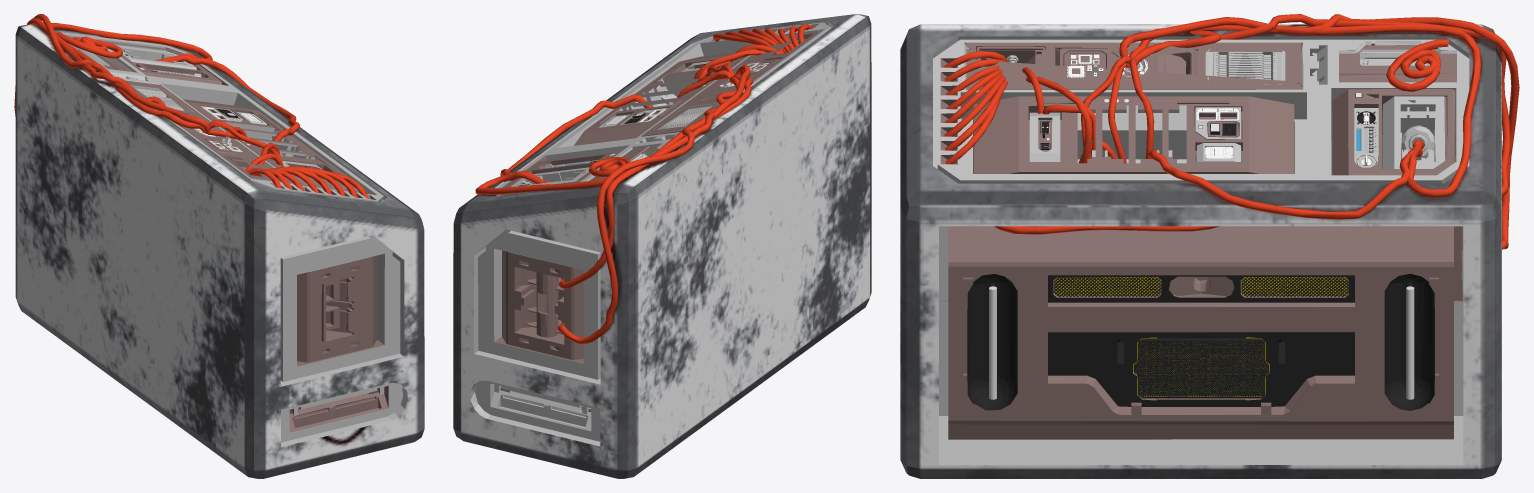
The model's file is Console-Large.fbx.
The picture shows the model from 3 angles, left to right: view 1: azimuth 30°, elevation 25°; view 2: azimuth 150°, elevation 25°; view 3: azimuth 270°, elevation 25°; orthographic projection. The views are drawn at different scales.
Visible parts, largest first — view 1: Console-Large, cable; view 2: Console-Large, cable; view 3: Console-Large, cable, Console-Large.2339, Console-Large.2338.
Part boxes in pixels (left/top/right/bottom): Console-Large: left=15, top=24, right=424, bottom=478; cable: left=14, top=14, right=368, bottom=198; Console-Large: left=453, top=14, right=871, bottom=478; cable: left=475, top=24, right=813, bottom=343; Console-Large: left=900, top=24, right=1501, bottom=478; cable: left=943, top=14, right=1519, bottom=249; Console-Large.2339: left=1054, top=277, right=1348, bottom=396; Console-Large.2338: left=1134, top=338, right=1268, bottom=398.
Bounding box in the file's own units: 130 × 204 × 309.
